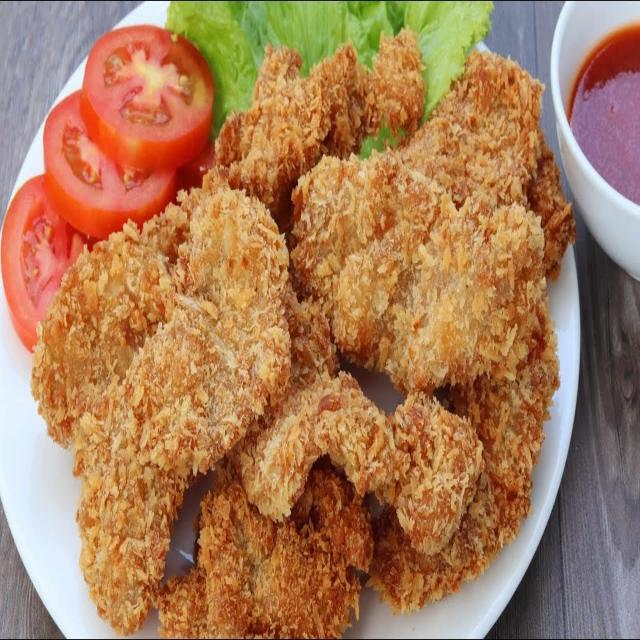thit chien: (32, 185, 290, 633), (290, 56, 570, 389), (239, 287, 484, 554), (369, 300, 559, 610), (215, 29, 425, 230), (162, 471, 374, 636)
